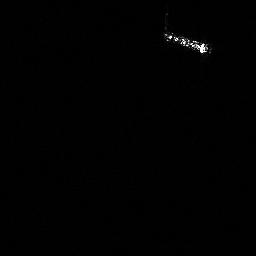ship: (164, 31, 209, 54)
